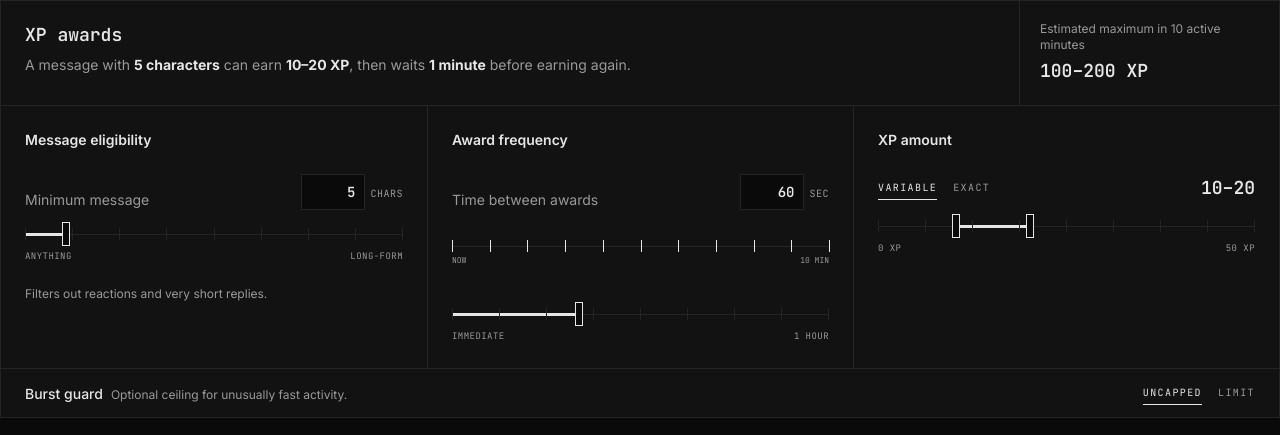
Test: XP settings › edits the text award strategy and reflects it in the live rule
The image size is (1280, 435).
Later steps or results of the test are not shown.
Click the button "Exact" at {"x": 972, "y": 188}, box [953,176,990,200]
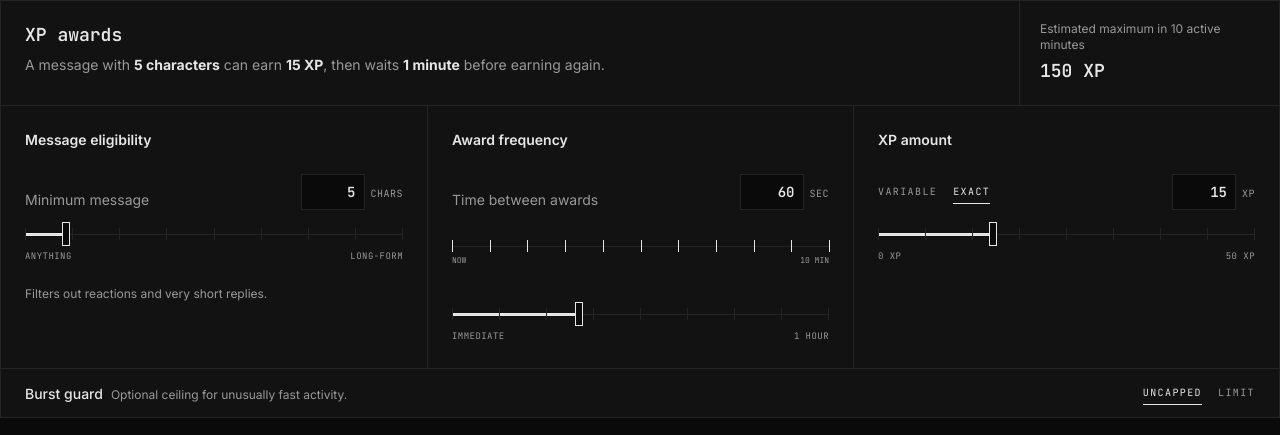
Expected: the number field named "Fixed XP" is shown, [1172,174,1236,210]
